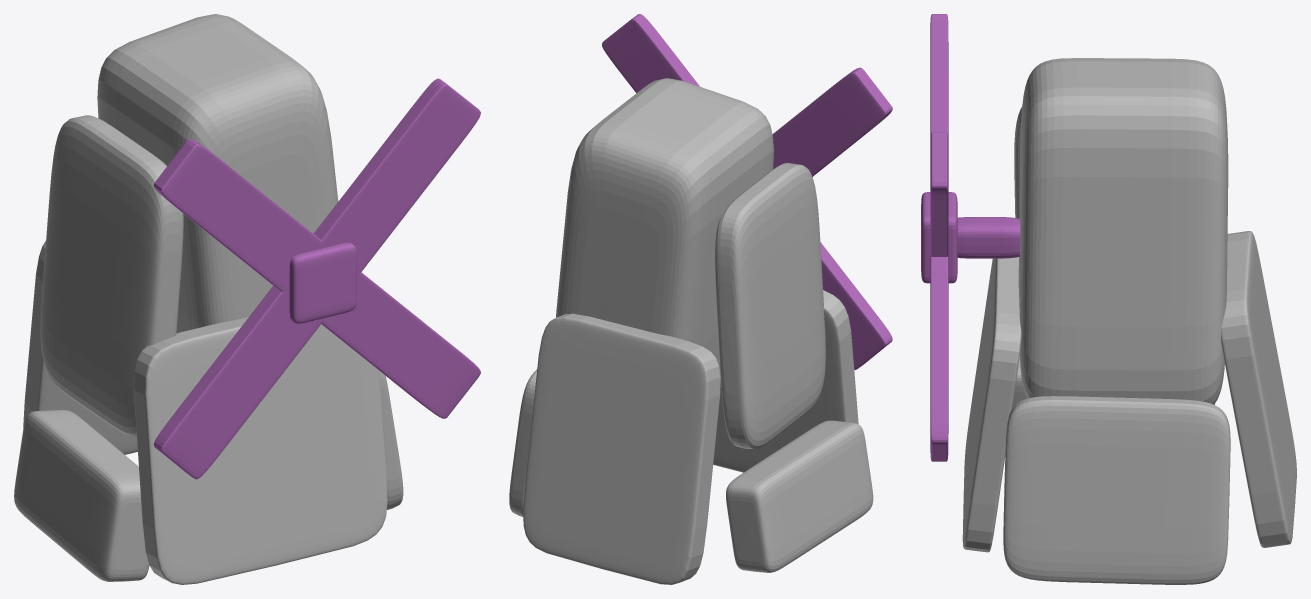
File: edited_abstraction_categorized.glb
3 renders of one model, left to right at view 1: azimuth 30°, elevation 25°; view 2: azimuth 150°, elevation 25°; view 3: azimuth 270°, elevation 25°, orthographic. The views are drawn at different scales.
Parts seen in each view (by area): view 1: world; view 2: world; view 3: world.
Boxes of the visible parts, x1=… form: world: x1=14, y1=14, x2=480, y2=584; world: x1=509, y1=14, x2=892, y2=584; world: x1=921, y1=14, x2=1296, y2=584.
Bounding box in the file's own units: 0.4179 × 0.5484 × 0.4106.
